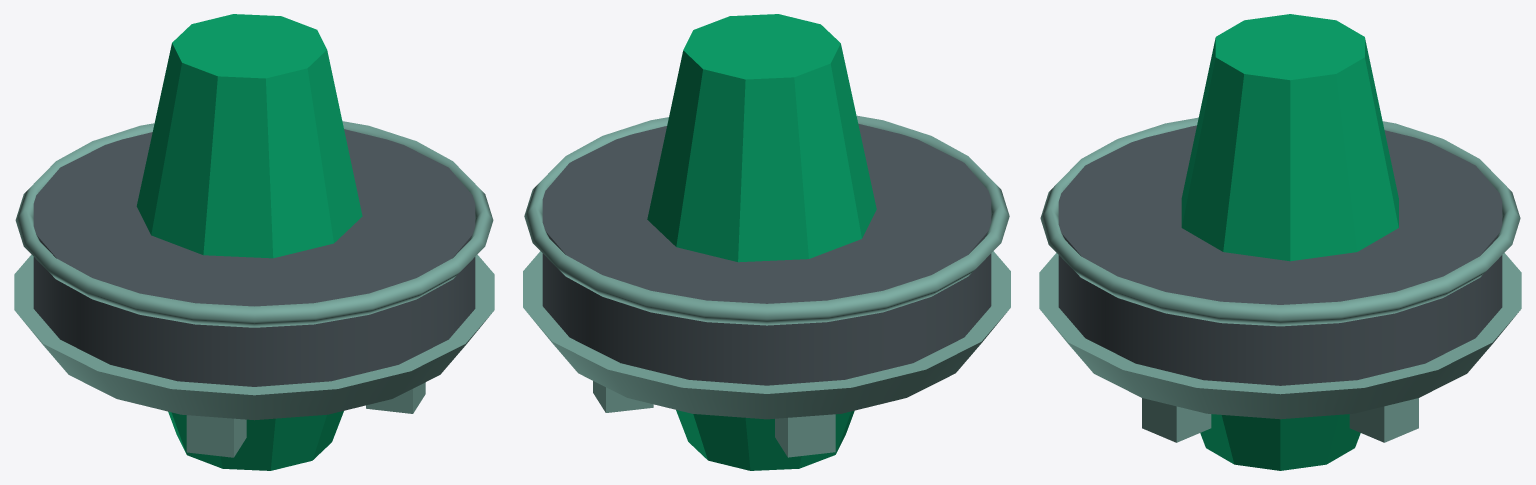
The model's file is mote.glb.
The picture shows the model from 3 angles, left to right: view 1: azimuth 30°, elevation 25°; view 2: azimuth 150°, elevation 25°; view 3: azimuth 270°, elevation 25°; orthographic projection.
Parts seen in each view (by area): view 1: body, core; view 2: body, core; view 3: body, core.
Boxes of the visible parts, left/top/right/bottom form: body: left=14, top=121, right=494, bottom=457; core: left=136, top=14, right=362, bottom=470; body: left=523, top=115, right=1010, bottom=457; core: left=647, top=14, right=876, bottom=470; body: left=1039, top=117, right=1521, bottom=442; core: left=1181, top=14, right=1398, bottom=470.
Size of the model in its own units: 0.5 by 0.44 by 0.4924.
